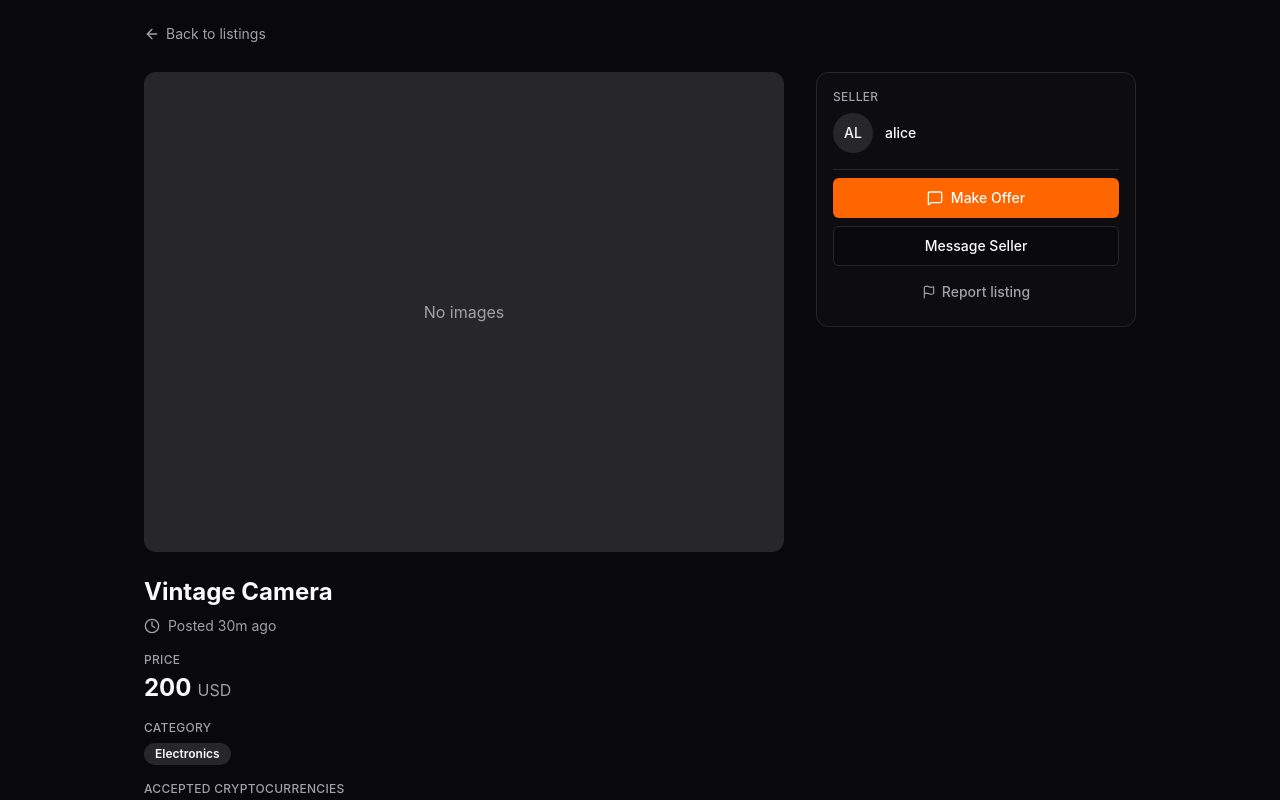
Scenario: ListingDetailPage — report listing › submits flag and shows success message
Click the button with test id "report-button" at (976, 292), box 833,274 -> 1119,310
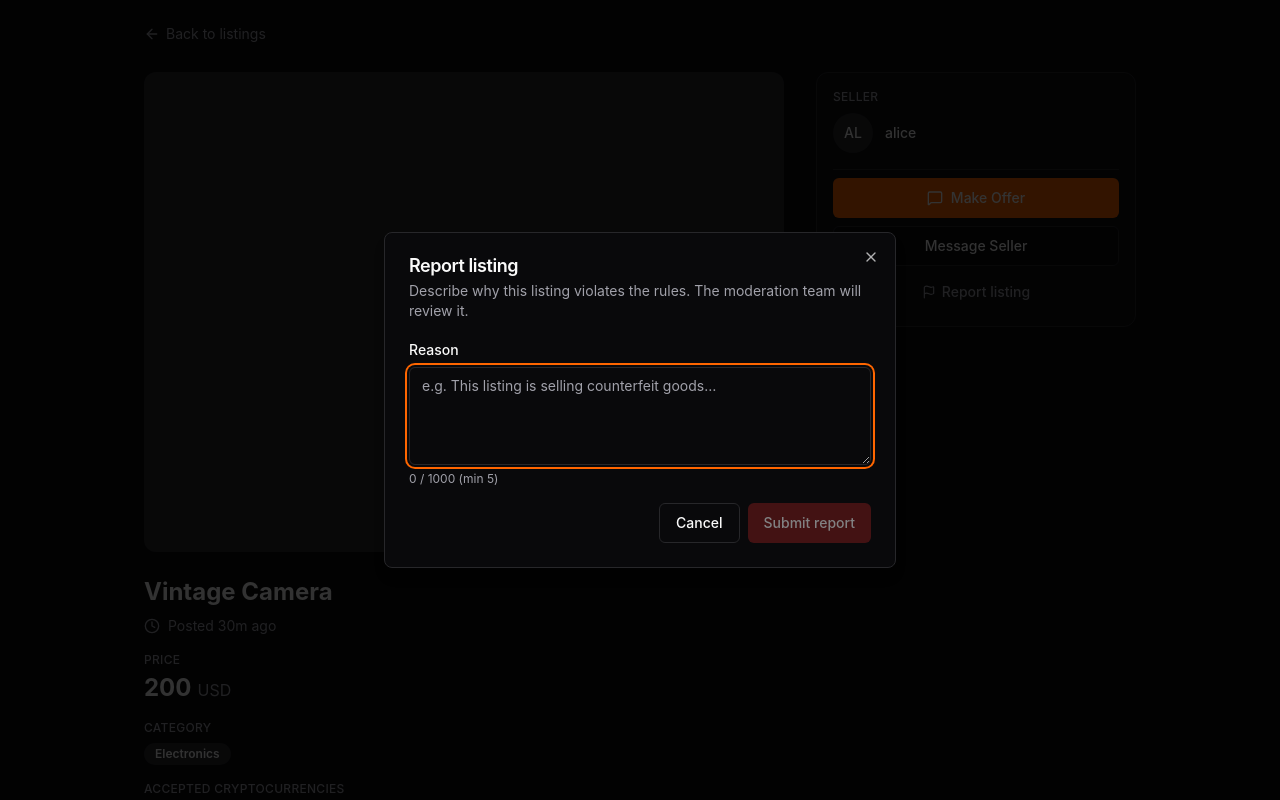
Expected: the text box with test id "report-reason-input" is shown
Type "This is a scam listing" into the text box with test id "report-reason-input" at (640, 416), box 409,367 -> 871,465
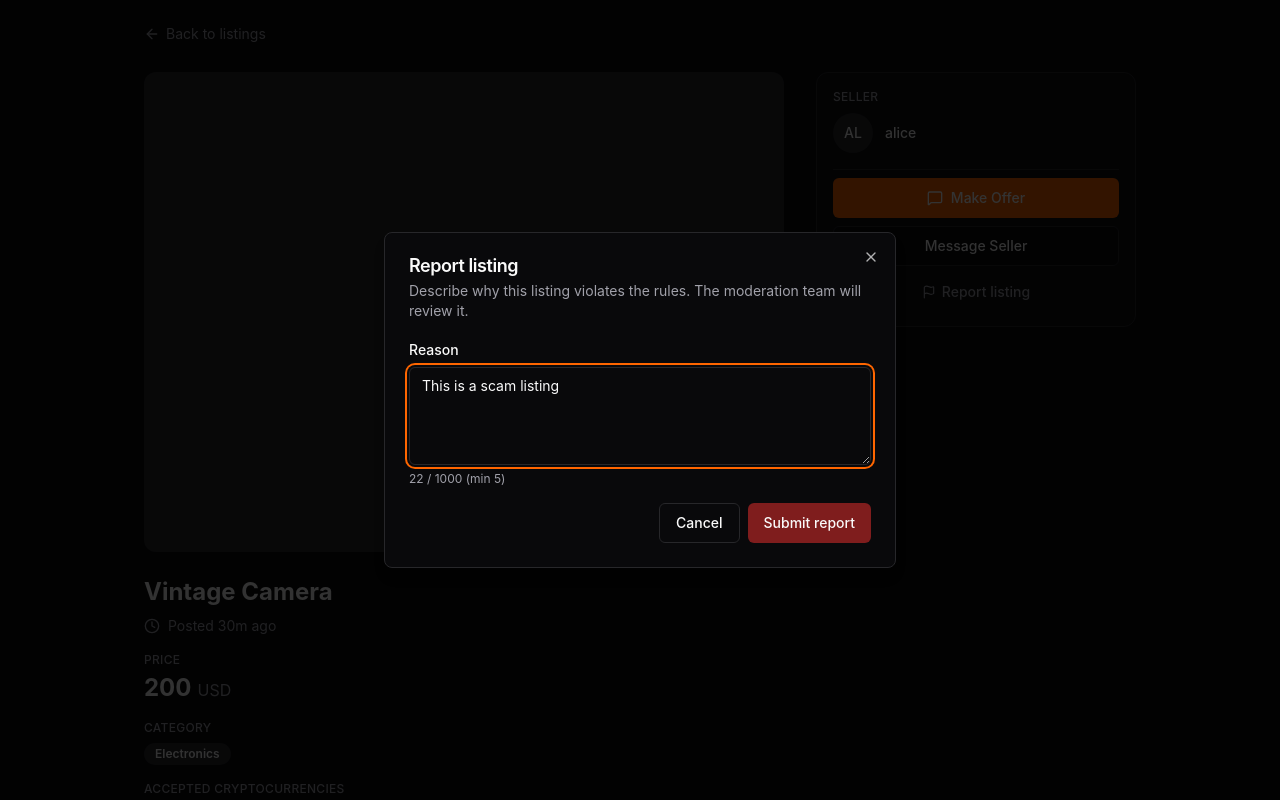
Click the button with test id "report-submit" at (809, 523), box 748,503 -> 871,543
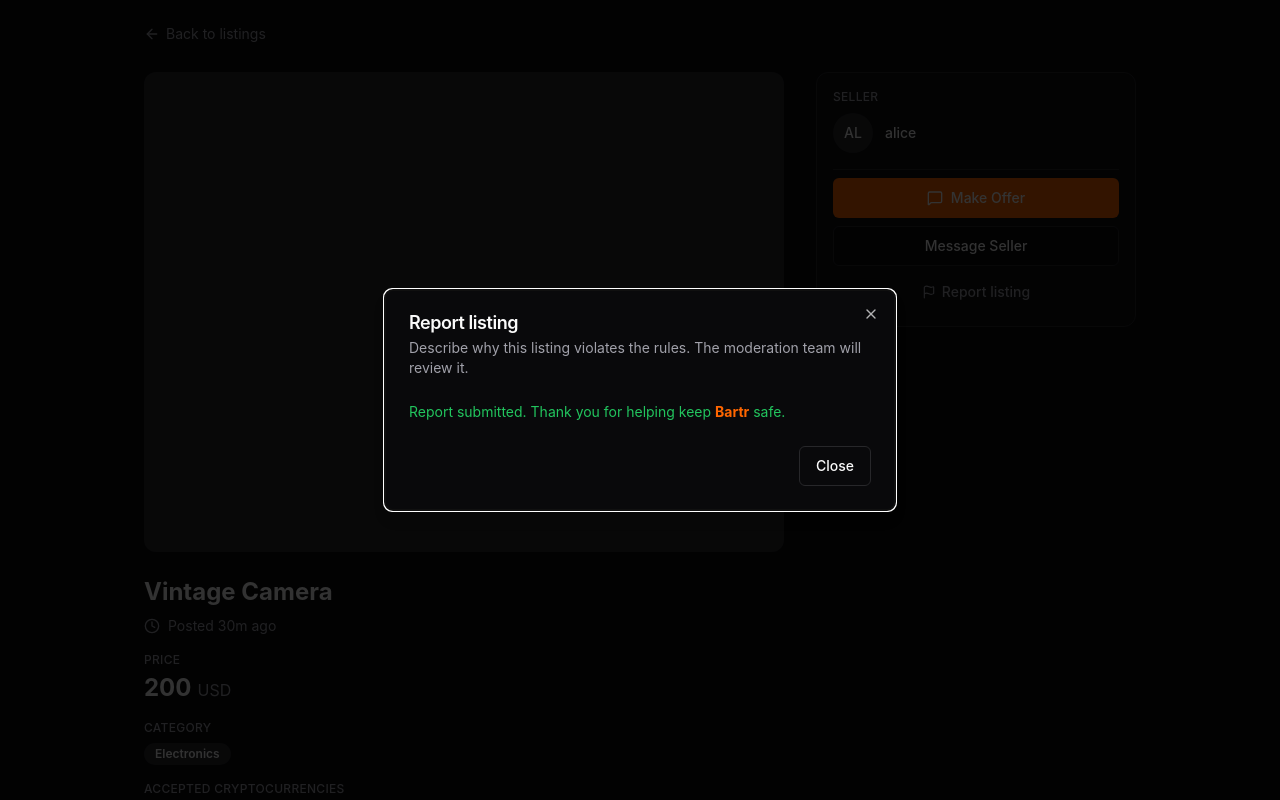
Expected: the message "Report submitted. Thank you for helping keep Bartr safe." is shown, 409,403 -> 785,420
